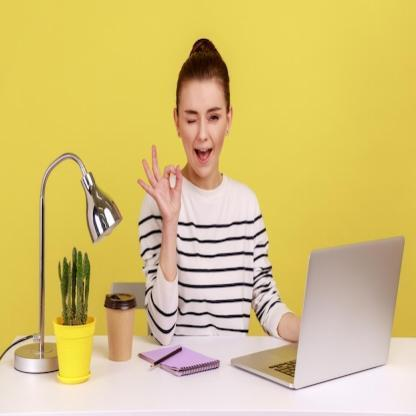ok: (136, 140, 186, 222)
